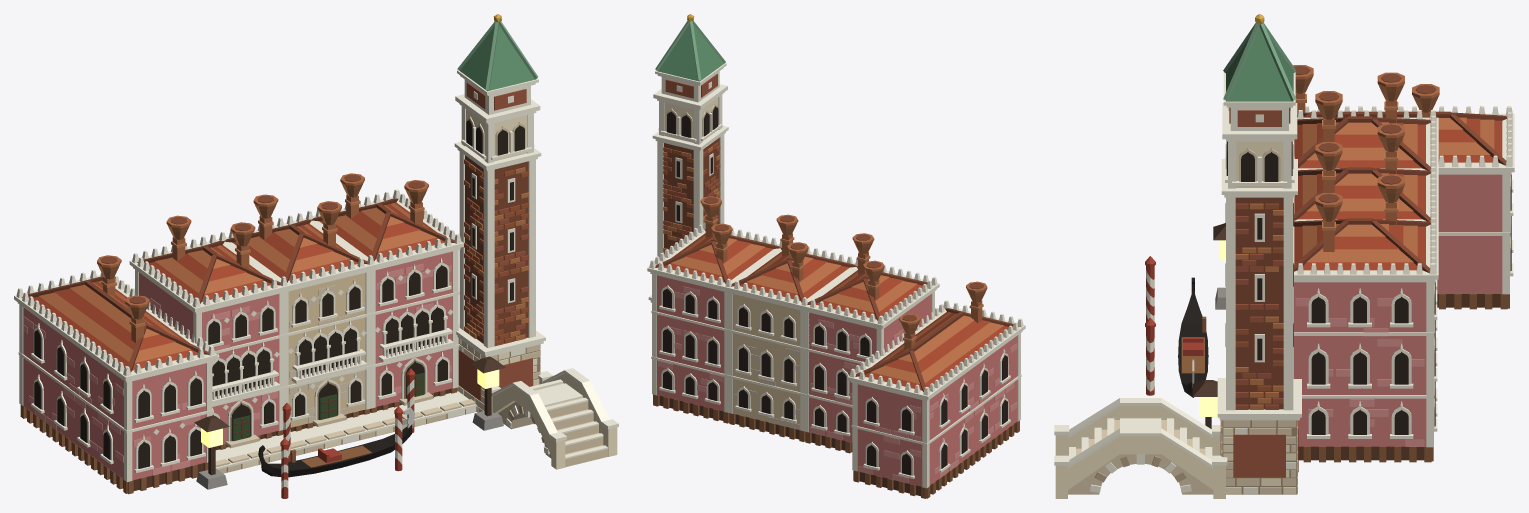
Rendered from lagoon_town.glb.
3 renders of one model, left to right at view 1: azimuth 30°, elevation 25°; view 2: azimuth 150°, elevation 25°; view 3: azimuth 270°, elevation 25°, orthographic. The views are drawn at different scales.
Parts seen in each view (by area): view 1: lagoon_town_LT_Porcelain, lagoon_town_LT_Rose, lagoon_town_LT_Terracotta, lagoon_town_LT_RoofTerracotta, lagoon_town_LT_Dark, lagoon_town_LT_StoneLight, lagoon_town_LT_BrickDark, lagoon_town_LT_DeepArch, lagoon_town_LT_BrickWarm, lagoon_town_LT_RoofTerracottaFascia, lagoon_town_LT_Ivory, lagoon_town_LT_Cream (+16 smaller); view 2: lagoon_town_LT_Porcelain, lagoon_town_LT_Rose, lagoon_town_LT_Terracotta, lagoon_town_LT_Dark, lagoon_town_LT_RoofTerracotta, lagoon_town_LT_Cream, lagoon_town_LT_RoseLight, lagoon_town_LT_WoodLight, lagoon_town_LT_RoofTerracottaFascia, lagoon_town_LT_BrickDark, lagoon_town_LT_CopperGreen, lagoon_town_LT_TerracottaLight (+8 smaller); view 3: lagoon_town_LT_Porcelain, lagoon_town_LT_Rose, lagoon_town_LT_Terracotta, lagoon_town_LT_BrickDark, lagoon_town_LT_RoofTerracotta, lagoon_town_LT_Ivory, lagoon_town_LT_RoofTerracottaFascia, lagoon_town_LT_BrickWarm, lagoon_town_LT_Dark, lagoon_town_LT_StoneLight, lagoon_town_LT_CopperGreen, lagoon_town_LT_TerracottaLight (+12 smaller).
Boxes of the visible parts, x1=… form: lagoon_town_LT_Porcelain: x1=14, y1=70, x2=618, y2=489; lagoon_town_LT_Rose: x1=23, y1=251, x2=452, y2=480; lagoon_town_LT_Terracotta: x1=39, y1=173, x2=436, y2=362; lagoon_town_LT_RoofTerracotta: x1=33, y1=202, x2=444, y2=370; lagoon_town_LT_Dark: x1=34, y1=177, x2=513, y2=468; lagoon_town_LT_StoneLight: x1=215, y1=116, x2=607, y2=473; lagoon_town_LT_BrickDark: x1=100, y1=155, x2=528, y2=343; lagoon_town_LT_DeepArch: x1=212, y1=119, x2=524, y2=440; lagoon_town_LT_BrickWarm: x1=458, y1=82, x2=532, y2=401; lagoon_town_LT_RoofTerracottaFascia: x1=21, y1=198, x2=454, y2=372; lagoon_town_LT_Ivory: x1=242, y1=109, x2=617, y2=469; lagoon_town_LT_Cream: x1=288, y1=273, x2=365, y2=427; lagoon_town_LT_Porcelain: x1=647, y1=63, x2=1025, y2=488; lagoon_town_LT_Rose: x1=657, y1=275, x2=1017, y2=486; lagoon_town_LT_Terracotta: x1=671, y1=196, x2=1003, y2=383; lagoon_town_LT_Dark: x1=663, y1=157, x2=1007, y2=475; lagoon_town_LT_RoofTerracotta: x1=664, y1=233, x2=1008, y2=390; lagoon_town_LT_Cream: x1=733, y1=294, x2=800, y2=429; lagoon_town_LT_RoseLight: x1=658, y1=286, x2=1017, y2=483; lagoon_town_LT_WoodLight: x1=653, y1=394, x2=1019, y2=498; lagoon_town_LT_RoofTerracottaFascia: x1=655, y1=229, x2=1018, y2=392; lagoon_town_LT_BrickDark: x1=664, y1=137, x2=983, y2=321; lagoon_town_LT_CopperGreen: x1=657, y1=24, x2=723, y2=81; lagoon_town_LT_TerracottaLight: x1=702, y1=204, x2=986, y2=342; lagoon_town_LT_Porcelain: x1=1054, y1=72, x2=1514, y2=494; lagoon_town_LT_Rose: x1=1294, y1=174, x2=1502, y2=446; lagoon_town_LT_Terracotta: x1=1293, y1=65, x2=1494, y2=262; lagoon_town_LT_BrickDark: x1=1235, y1=66, x2=1436, y2=409; lagoon_town_LT_RoofTerracotta: x1=1294, y1=118, x2=1502, y2=270; lagoon_town_LT_Ivory: x1=1055, y1=141, x2=1297, y2=498; lagoon_town_LT_RoofTerracottaFascia: x1=1294, y1=111, x2=1506, y2=272; lagoon_town_LT_BrickWarm: x1=1220, y1=107, x2=1298, y2=477; lagoon_town_LT_Dark: x1=1225, y1=174, x2=1511, y2=434; lagoon_town_LT_StoneLight: x1=1068, y1=148, x2=1297, y2=494; lagoon_town_LT_CopperGreen: x1=1226, y1=27, x2=1293, y2=101; lagoon_town_LT_TerracottaLight: x1=1295, y1=76, x2=1438, y2=230.
Bounding box in the file's own units: 4.14 × 3.7 × 3.33.
